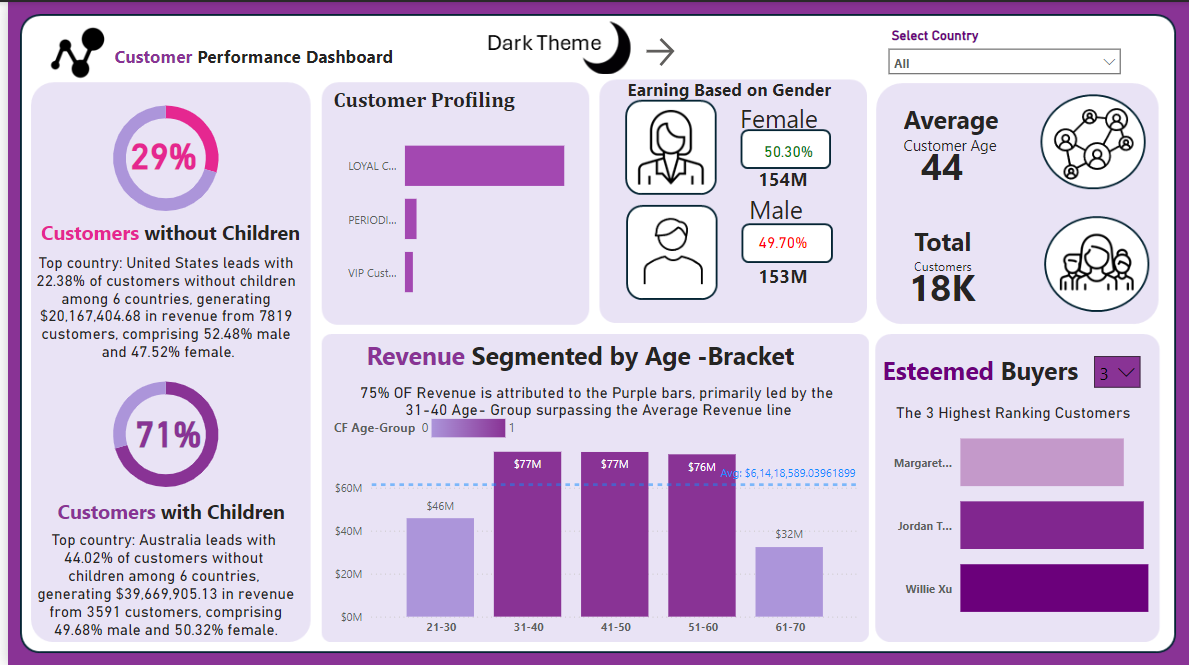

Layout of this report page (visuals, bound fields, positions):
{"tool":"powerbi","page":{"name":"Page 1","canvas":[1280,720],"ordinal":0},"visuals":[{"type":"clusteredColumnChart","fields":{"Category":["DimCustomer.Age Category"],"Y":["All Measures.Total Revenue"]},"box":[348.1,444,580.7,252.1],"z":0},{"type":"card","fields":{"Values":["Customer Measures.Avg Caption"]},"box":[325.3,375.7,629.5,113.9],"z":1000},{"type":"textbox","box":[384.3,359.5,545,89.4],"z":2000},{"type":"donutChart","fields":{"Y":["Customer Measures.%C without children","Customer Measures.%CWC"]},"box":[74.8,92.7,191.9,152.9],"z":3000},{"type":"donutChart","fields":{"Y":["Customer Measures.%CWC","Customer Measures.%C without children"]},"box":[74.8,392,191.9,152.9],"z":4000},{"type":"card","fields":{"Values":["Customer Measures.%C without children"]},"box":[110.6,118.7,115.5,89.5],"z":5000},{"type":"card","fields":{"Values":["Customer Measures.%CWC"]},"box":[115.5,419.6,115.5,89.5],"z":6000},{"type":"textbox","box":[30.9,229.3,302.5,48.8],"z":7000},{"type":"textbox","box":[48.8,531.9,276.5,50.4],"z":8000},{"type":"card","fields":{"Values":["Customer Measures.Caption Customers without Children"]},"box":[13,261.9,320.4,135],"z":9000},{"type":"card","fields":{"Values":["Customer Measures.Caption Customers with Children"]},"box":[19.5,557.9,302.5,144.8],"z":10000},{"type":"clusteredBarChart","title":" Customer Profiling","fields":{"Category":["DimCustomer.Customer Type"],"Y":["All Measures.Total Revenue"]},"box":[348.1,92.7,276.5,252.1],"z":11000},{"type":"clusteredBarChart","fields":{"Category":["DimCustomer.FullName"],"Y":["Customer Measures.Dynamic Customers"]},"box":[943.4,432.7,304.2,263.5],"z":12000},{"type":"slicer","fields":{"Values":["Dynamic Customers.Dynamic Customers"]},"box":[1167.9,374.1,69.9,58.6],"z":13000},{"type":"card","fields":{"Values":["Customer Measures.%Male"]},"box":[798.6,244,83,34.2],"z":14000},{"type":"card","fields":{"Values":["Customer Measures.%Female"]},"box":[798.6,148,94.3,29.3],"z":15000},{"type":"card","fields":{"Values":["Customer Measures.#Customers"]},"box":[954.8,261.9,115.5,92.7],"z":16000},{"type":"card","fields":{"Values":["Customer Measures.Average Customer Age"]},"box":[954.8,130.1,115.5,92.7],"z":17000},{"type":"textbox","box":[977.6,235.8,112.2,68.3],"z":18000},{"type":"textbox","box":[966.2,104.1,115.5,89.5],"z":19000},{"type":"textbox","box":[788.9,102.5,113.9,56.9],"z":20000},{"type":"textbox","box":[798.6,201.7,113.9,56.9],"z":21000},{"type":"textbox","box":[943.4,375.7,224.5,73.2],"z":22000},{"type":"card","fields":{"Values":["Customer Measures.Title Top Customers"]},"box":[943.4,419.6,292.8,52],"z":23000},{"type":"textbox","box":[666.9,76.4,235.8,73.2],"z":24000},{"type":"card","fields":{"Values":["Customer Measures.Female Revenue"]},"box":[759.6,146.4,161,92.7],"z":25000},{"type":"card","fields":{"Values":["Customer Measures.Male Revenue"]},"box":[759.6,252.1,161,92.7],"z":26000},{"type":"textbox","box":[110.6,40.7,422.9,89.5],"z":27000},{"type":"slicer","fields":{"Values":["DimGeography.Country"]},"box":[945,22.8,271.6,63.4],"z":28000},{"type":"actionButton","box":[686.5,34.9,99.1,40.4],"z":29000}]}

Visuals, with their boxes in screenshot pixels (x1, y1, x2, y2), scaled from the page's 1280x720 canvas onto the 1189x665 screenshot:
clusteredColumnChart - DimCustomer.Age Category x All Measures.Total Revenue: 323 410 863 643
card - Customer Measures.Avg Caption: 302 347 887 452
textbox: 357 332 863 415
donutChart - Customer Measures.%C without children x Customer Measures.%CWC: 69 86 248 227
donutChart - Customer Measures.%CWC x Customer Measures.%C without children: 69 362 248 503
card - Customer Measures.%C without children: 103 110 210 192
card - Customer Measures.%CWC: 107 388 215 470
textbox: 29 212 310 257
textbox: 45 491 302 538
card - Customer Measures.Caption Customers without Children: 12 242 310 367
card - Customer Measures.Caption Customers with Children: 18 515 299 649
" Customer Profiling" clusteredBarChart: 323 86 580 318
clusteredBarChart - DimCustomer.FullName x Customer Measures.Dynamic Customers: 876 400 1159 643
slicer - Dynamic Customers.Dynamic Customers: 1085 346 1150 400
card - Customer Measures.%Male: 742 225 819 257
card - Customer Measures.%Female: 742 137 829 164
card - Customer Measures.#Customers: 887 242 994 328
card - Customer Measures.Average Customer Age: 887 120 994 206
textbox: 908 218 1012 281
textbox: 898 96 1005 179
textbox: 733 95 839 147
textbox: 742 186 848 239
textbox: 876 347 1085 415
card - Customer Measures.Title Top Customers: 876 388 1148 436
textbox: 619 71 839 138
card - Customer Measures.Female Revenue: 706 135 855 221
card - Customer Measures.Male Revenue: 706 233 855 318
textbox: 103 38 496 120
slicer - DimGeography.Country: 878 21 1130 80
actionButton: 638 32 730 70
